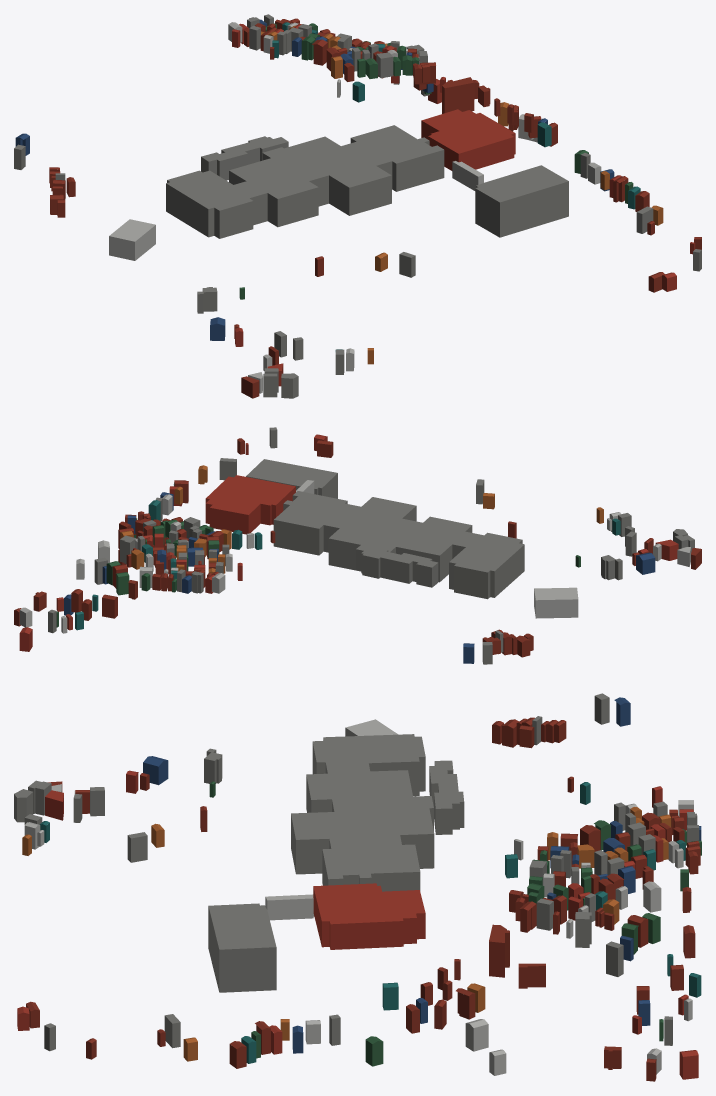
File: near-16-54726-29744.3cc0666f.glb
The picture shows the model from 3 angles, top to bottom: view 1: azimuth 30°, elevation 25°; view 2: azimuth 150°, elevation 25°; view 3: azimuth 270°, elevation 25°; orthographic projection. The views are drawn at different scales.
Bounding box in the file's own units: 594 × 164 × 594.
